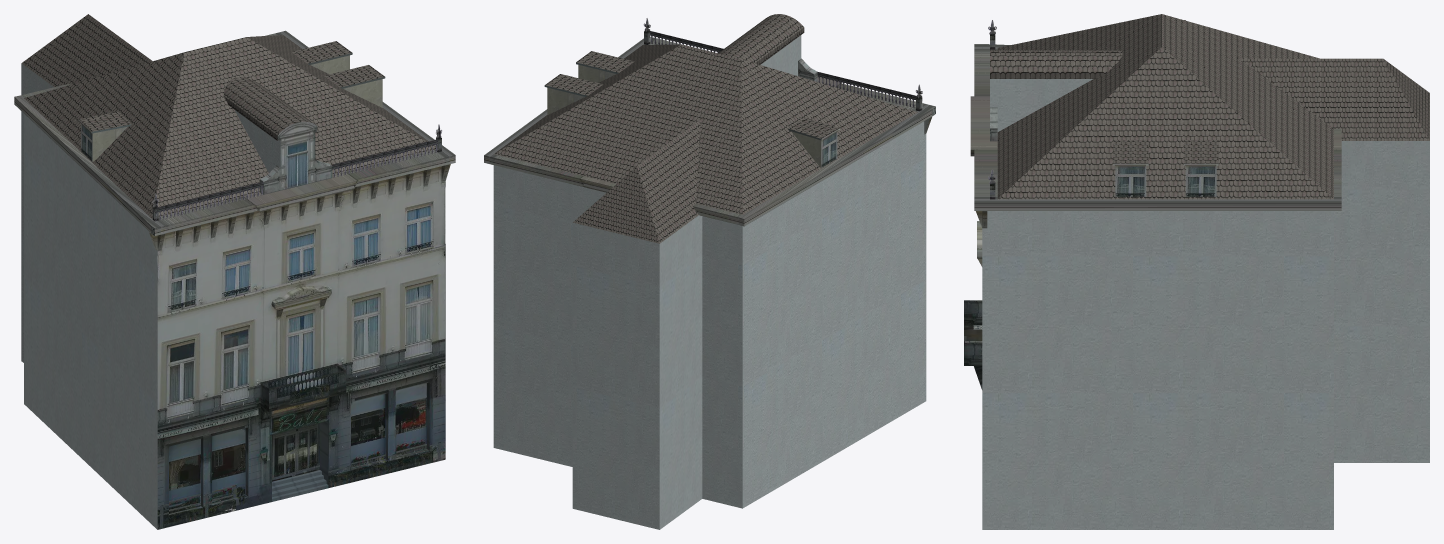
The model's file is euroB_17.glb.
3 views of the same model, side by side, from view 1: azimuth 30°, elevation 25°; view 2: azimuth 150°, elevation 25°; view 3: azimuth 270°, elevation 25° (orthographic). The views are drawn at different scales.
Visible parts, largest first — view 1: geometry_1, geometry_13, geometry_0, geometry_15, geometry_3, geometry_35; view 2: geometry_0, geometry_13, geometry_1, geometry_35, geometry_3; view 3: geometry_0, geometry_13, geometry_1.
Part boxes in pixels (x1,y1,x2,y2): geometry_1: [14, 30, 455, 529]; geometry_13: [21, 14, 435, 218]; geometry_0: [21, 63, 280, 529]; geometry_15: [260, 121, 332, 194]; geometry_3: [155, 139, 437, 220]; geometry_35: [92, 55, 382, 161]; geometry_0: [493, 35, 926, 529]; geometry_13: [494, 14, 917, 243]; geometry_1: [484, 37, 935, 226]; geometry_35: [547, 65, 821, 167]; geometry_3: [650, 31, 916, 107]; geometry_0: [982, 79, 1429, 529]; geometry_13: [990, 14, 1429, 199]; geometry_1: [964, 44, 1341, 389].
Bounding box in the file's own units: 13.16 × 16.32 × 16.33.
Materials: 8 (8 with a texture image).
